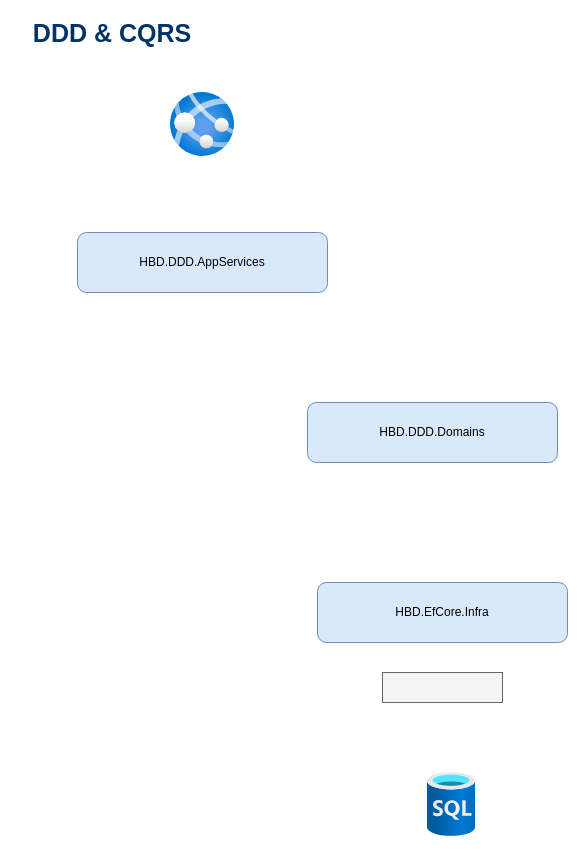
Image size: 585x853. Some labels were removed from this diagram. Each missing label, with the centre of its shape:
"Api" goes at point (202, 124).
"EfCore" goes at point (442, 687).
